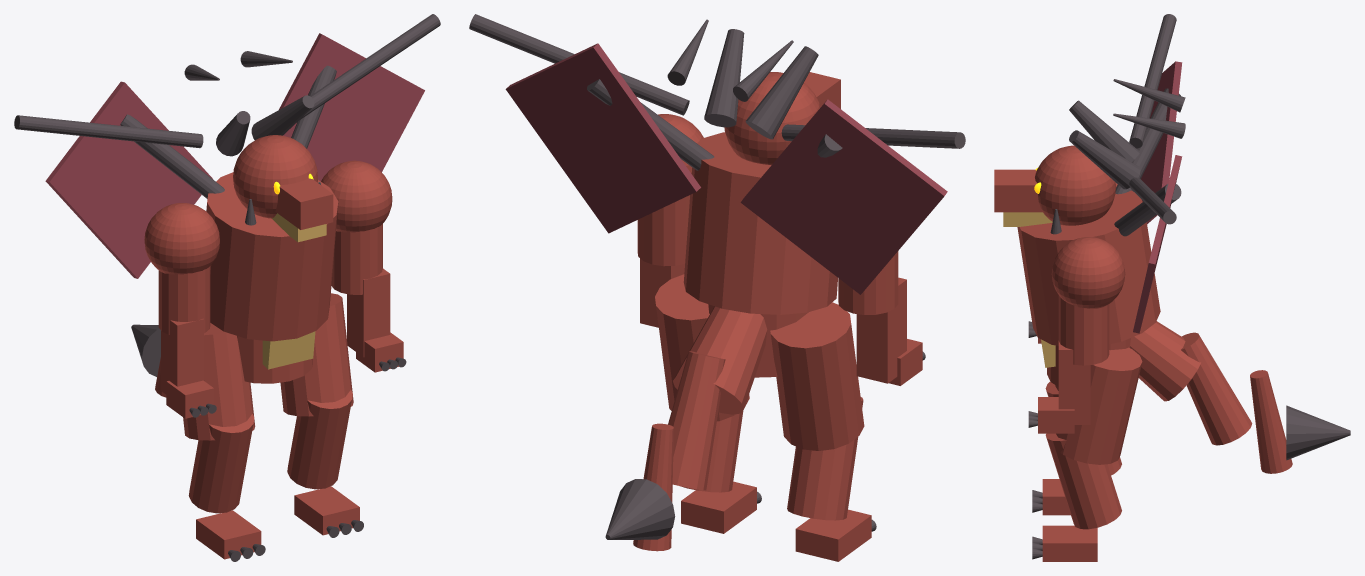
Rendered from dragon_drake_full.glb.
3 renders of one model, left to right at view 1: azimuth 30°, elevation 25°; view 2: azimuth 150°, elevation 25°; view 3: azimuth 270°, elevation 25°, orthographic. The views are drawn at different scales.
Parts seen in each view (by area): view 1: DragonDrakeFull; view 2: DragonDrakeFull; view 3: DragonDrakeFull.
Boxes of the visible parts, x1,y1,x2,y2 form: DragonDrakeFull: (14,14,440,561); DragonDrakeFull: (469,14,965,561); DragonDrakeFull: (994,14,1350,561).
Size of the model in its own units: 2.06 by 2.08 by 1.55.
